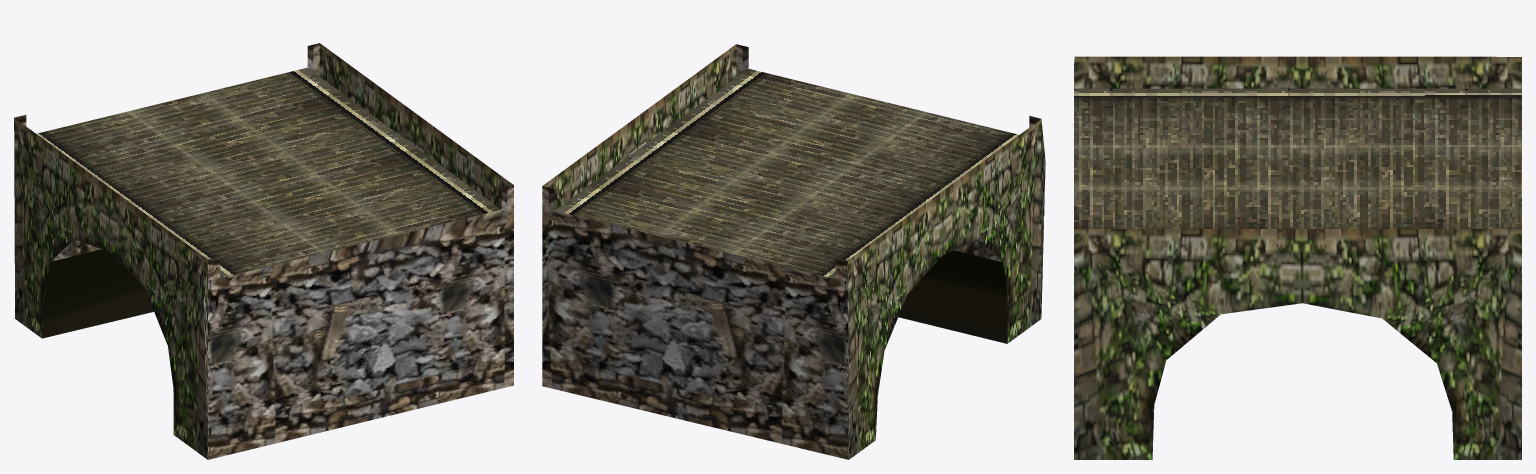
Rendered from Civilian - Commercial Building - Fortress Wall Small Arch - CMWalAkml2.glb.
The picture shows the model from 3 angles, left to right: view 1: azimuth 30°, elevation 25°; view 2: azimuth 150°, elevation 25°; view 3: azimuth 270°, elevation 25°; orthographic projection. The views are drawn at different scales.
Visible parts, largest first — view 1: CMWALAKML2; view 2: CMWALAKML2; view 3: CMWALAKML2.
Part boxes in pixels (<box>): CMWALAKML2: <box>14,43,513,459</box>; CMWALAKML2: <box>542,44,1045,459</box>; CMWALAKML2: <box>1074,56,1521,459</box>.
Bounding box in the file's own units: 59.67 × 43.6 × 64.54.
5 materials, 5 textured.
